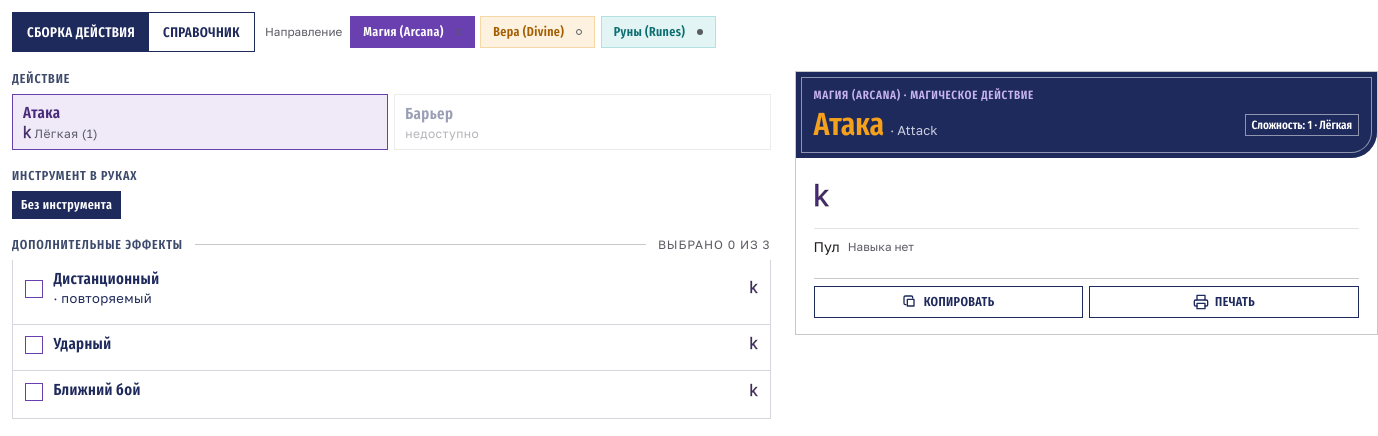
Test case: Магические инструменты в сборщике (ROT-MAG-IMP-01) › не разрешает Runes без карьерного навыка и ранга
Expected: the heading "Действие" is shown, [12,71,70,86]
Click the button "Руны (Runes)": coordinates (658, 32) [601,16,716,48]
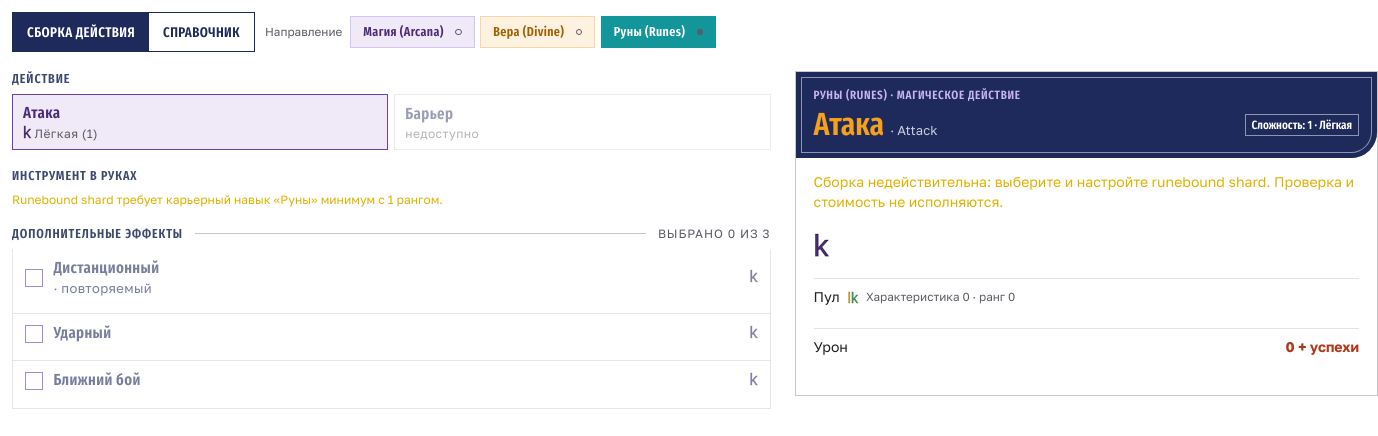
Result: the text "карьерный навык" is shown at [12,192,443,207]
